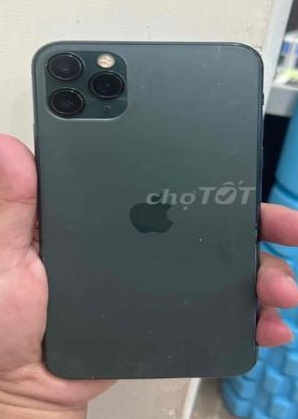scratch: (183, 47, 234, 89), (159, 349, 193, 369), (191, 232, 211, 253), (138, 85, 152, 102)
